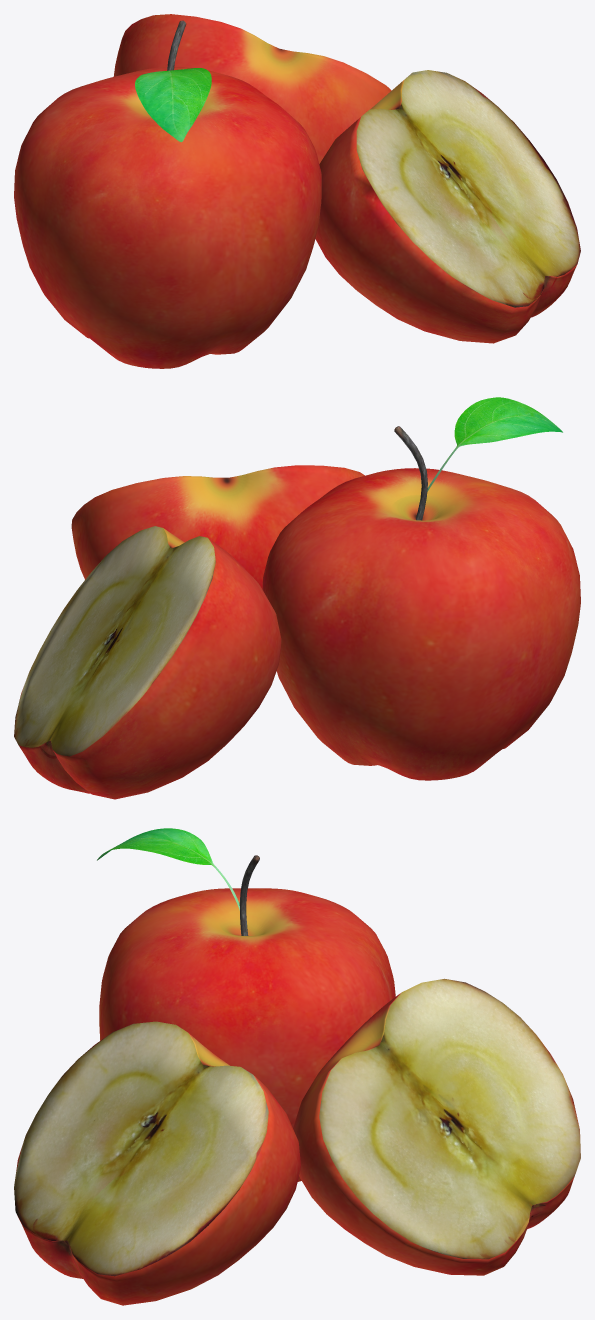
3 views of the same model, one above another, from view 1: azimuth 30°, elevation 25°; view 2: azimuth 150°, elevation 25°; view 3: azimuth 270°, elevation 25° (orthographic). The views are drawn at different scales.
Visible parts, largest first — view 1: Apples_4; view 2: Apples_4; view 3: Apples_4.
Part boxes in pixels (left/top/right/bottom): Apples_4: left=14, top=14, right=580, bottom=368; Apples_4: left=14, top=397, right=580, bottom=799; Apples_4: left=14, top=828, right=580, bottom=1305.
Size of the model in its own units: 3.86 by 2.39 by 3.87.
Materials: 1 (1 with a texture image).
